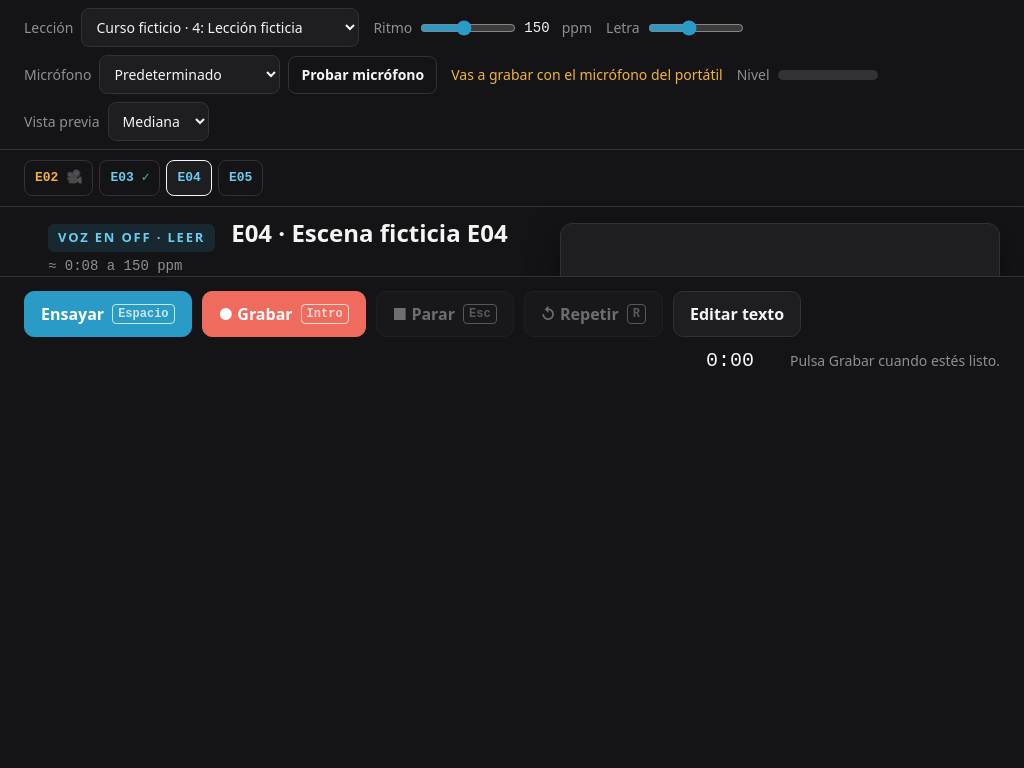
Test: Teleprompter: aviso con el micrófono que se abre de verdad › desactiva «Probar micrófono» mientras se graba
Click the button "● Grabar Intro": (284,314) [202,290,366,336]
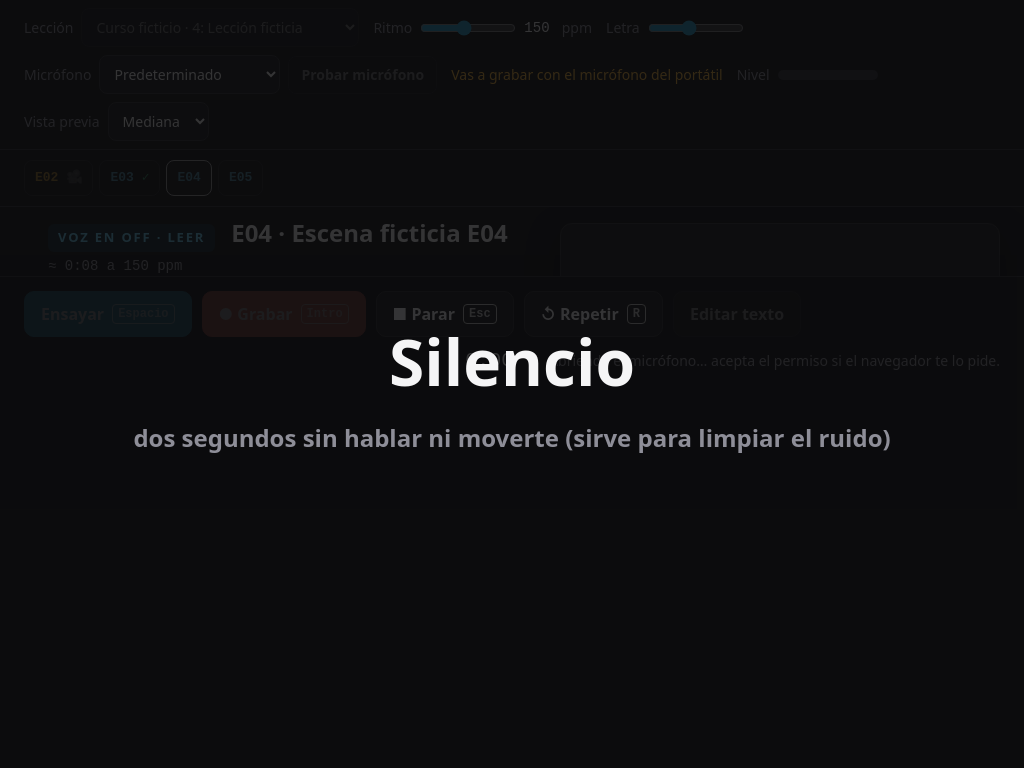
Now the text "Silencio" is shown, box [389,318,635,405]
